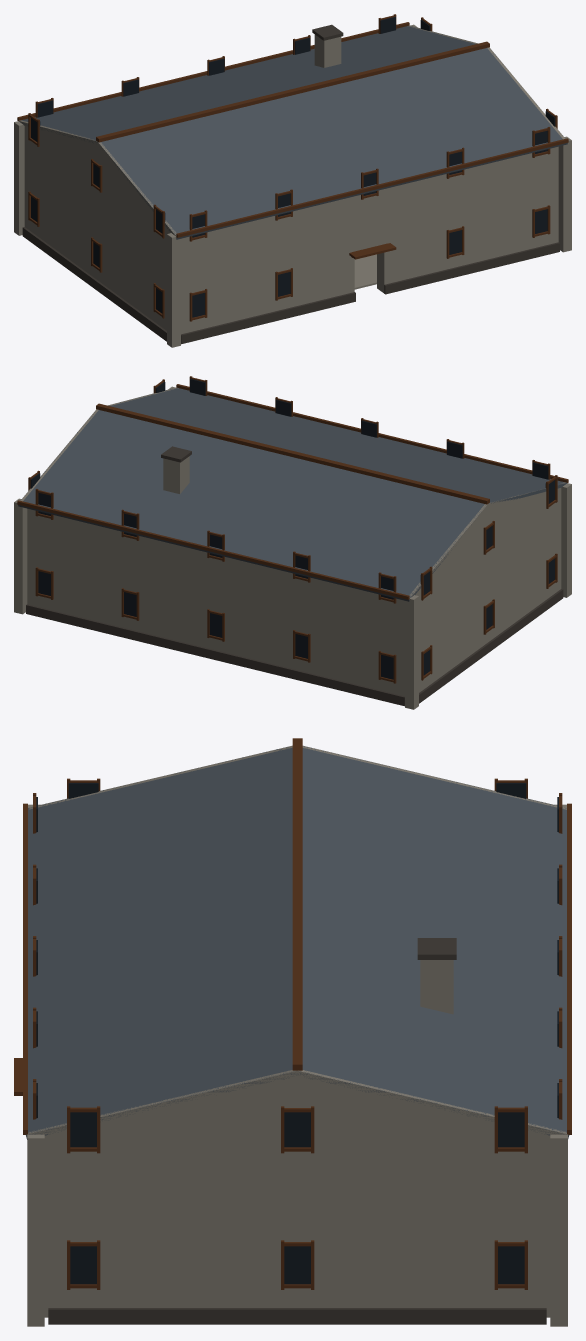
Rendered from bunkhouse.glb.
3 renders of one model, top to bottom at view 1: azimuth 30°, elevation 25°; view 2: azimuth 150°, elevation 25°; view 3: azimuth 270°, elevation 25°, orthographic. The views are drawn at different scales.
Parts seen in each view (by area): view 1: bunkhouse_slate, bunkhouse_stone, bunkhouse_timber, bunkhouse_plinth, bunkhouse_glass; view 2: bunkhouse_slate, bunkhouse_stone, bunkhouse_timber, bunkhouse_plinth, bunkhouse_glass; view 3: bunkhouse_slate, bunkhouse_stone, bunkhouse_timber, bunkhouse_plinth, bunkhouse_glass.
Boxes of the visible parts, left/top/right/bottom form: bunkhouse_slate: left=20, top=25, right=567, bottom=239; bunkhouse_stone: left=14, top=24, right=571, bottom=347; bunkhouse_timber: left=17, top=14, right=568, bottom=321; bunkhouse_plinth: left=22, top=24, right=559, bottom=344; bunkhouse_glass: left=31, top=17, right=555, bottom=317; bunkhouse_slate: left=18, top=388, right=566, bottom=601; bunkhouse_stone: left=14, top=386, right=571, bottom=709; bunkhouse_timber: left=17, top=376, right=568, bottom=683; bunkhouse_plinth: left=26, top=446, right=563, bottom=706; bunkhouse_glass: left=30, top=379, right=554, bottom=679; bunkhouse_slate: left=26, top=746, right=569, bottom=1139; bunkhouse_stone: left=27, top=746, right=567, bottom=1326; bunkhouse_timber: left=14, top=738, right=571, bottom=1289; bunkhouse_plinth: left=48, top=938, right=546, bottom=1324; bunkhouse_glass: left=36, top=783, right=558, bottom=1284.
Size of the model in its own units: 19.02 by 7.35 by 13.44.
